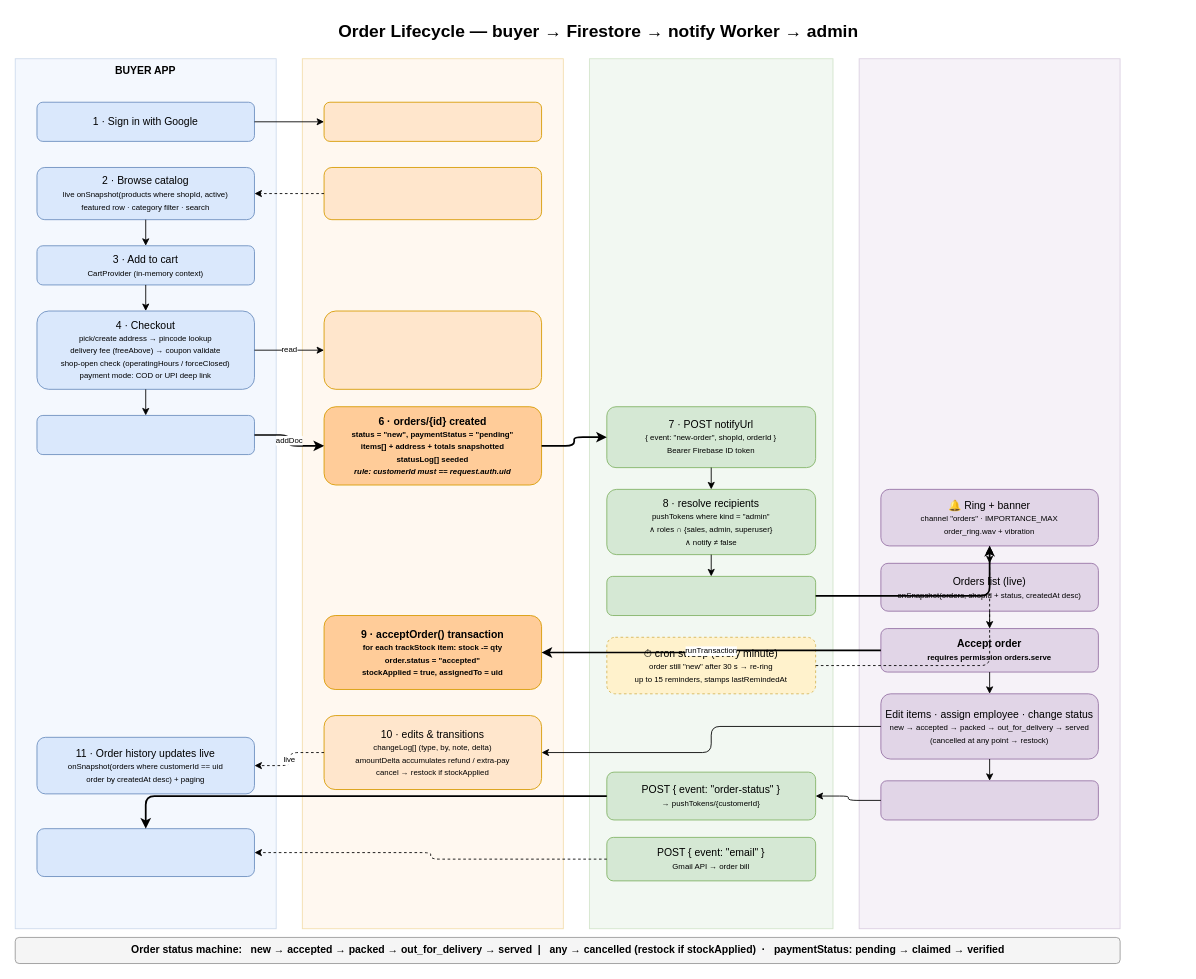
This 1196x979 diagram has some shape labels left out. The box of each missing label's shape, as (x1, y1, x2, y2) in pixels:
12 · 🔔 "Order update" push + bill email (Gmail): (36, 828, 254, 877)
5 · placeOrder(): (36, 415, 254, 455)
ADMIN APP: (858, 58, 1120, 929)
CLOUD FIRESTORE: (301, 58, 563, 929)
customers/{uid} upsertCustomerForUser(): (323, 101, 542, 141)
deliveryZones/{pincode} coupons/{CODE} shops/{shopId}: (323, 310, 542, 389)
FCM v1 high-priority send: (606, 576, 816, 616)
NOTIFY WORKER: (589, 58, 833, 929)
products / categories / images readable by any signed-in user: (323, 167, 542, 220)
updateOrderStatus() → notify customer: (880, 780, 1098, 820)
